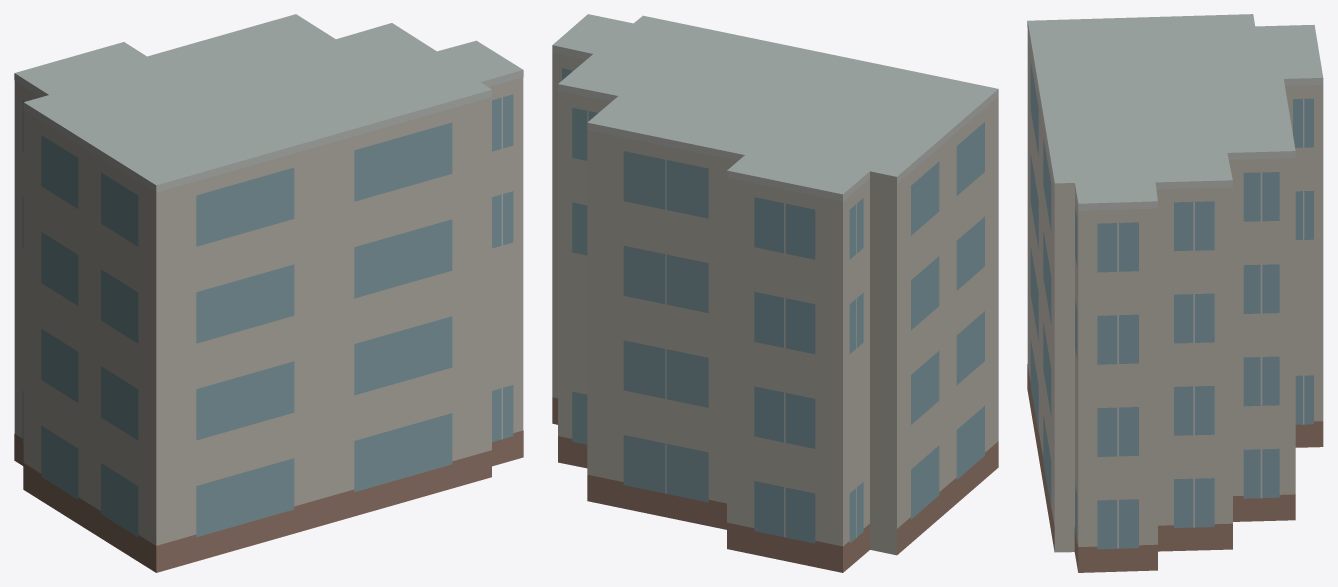
The model's file is survey-upis-33018215.glb.
3 renders of one model, left to right at view 1: azimuth 30°, elevation 25°; view 2: azimuth 150°, elevation 25°; view 3: azimuth 270°, elevation 25°, orthographic. The views are drawn at different scales.
Parts seen in each view (by area): view 1: survey-upis-33018215.tmp; view 2: survey-upis-33018215.tmp; view 3: survey-upis-33018215.tmp.
Part boxes in pixels (x1,y1,x2,y2): survey-upis-33018215.tmp: (14,14,523,572); survey-upis-33018215.tmp: (552,14,998,572); survey-upis-33018215.tmp: (1027,14,1323,572).
Bounding box in the file's own units: 14.12 × 12.8 × 9.3.
